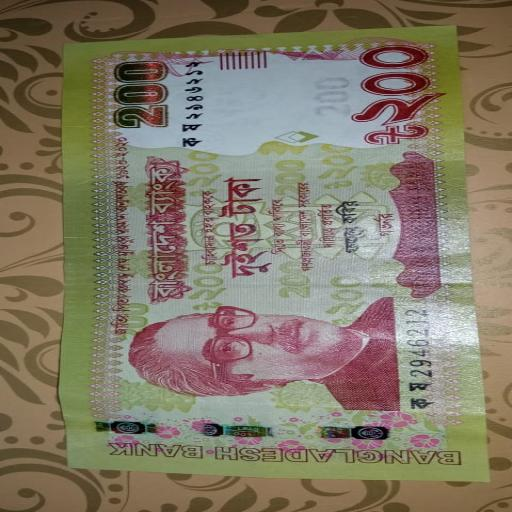200taka: (59, 25, 487, 483)
